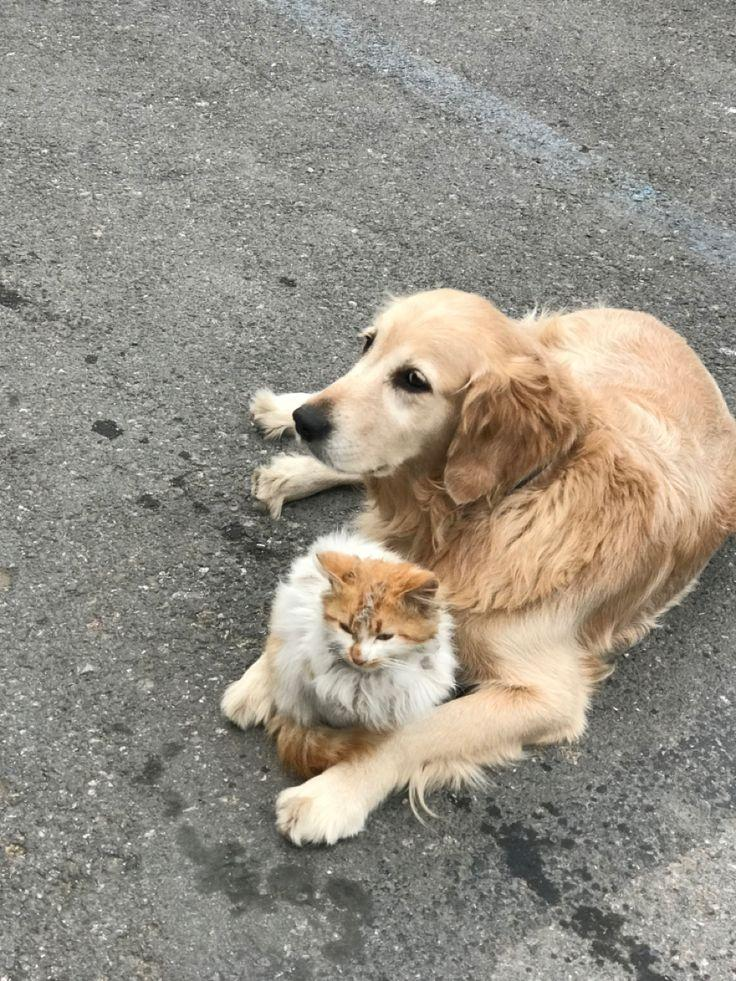kedo: (284, 536, 454, 725)
